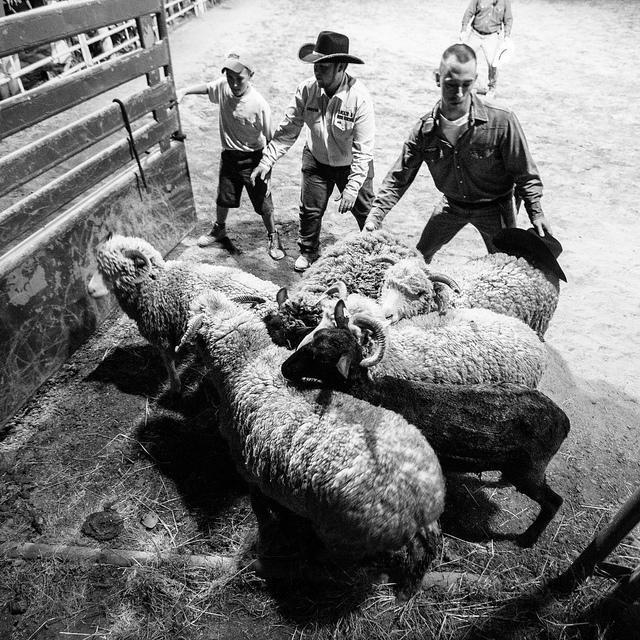Sheep: (168, 291, 444, 616), (284, 333, 571, 547), (88, 234, 277, 394), (285, 299, 549, 388), (249, 229, 424, 347), (370, 248, 560, 338)
